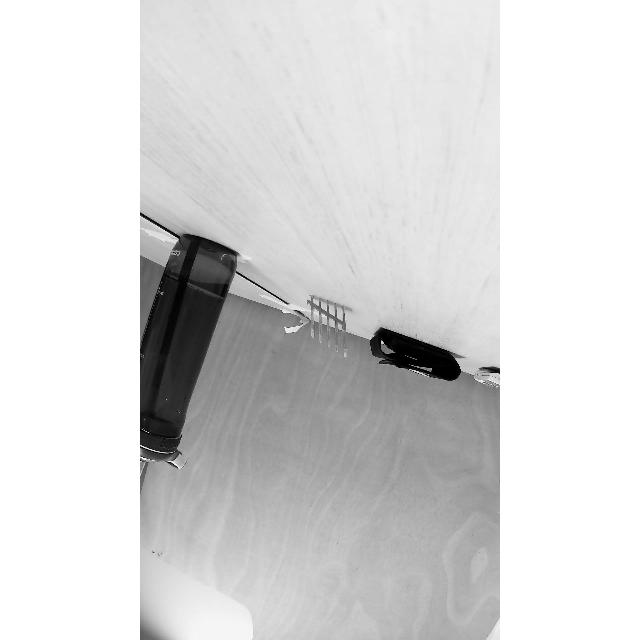targets: (140, 222, 256, 504), (371, 326, 462, 386), (298, 284, 354, 364), (472, 364, 500, 400)
